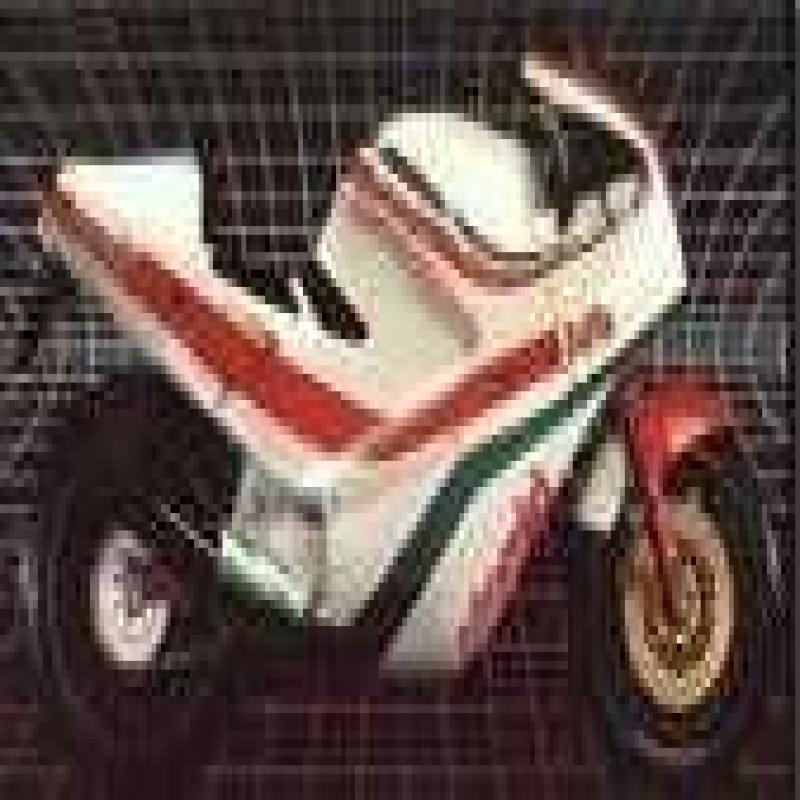bike: (0, 45, 800, 722)
